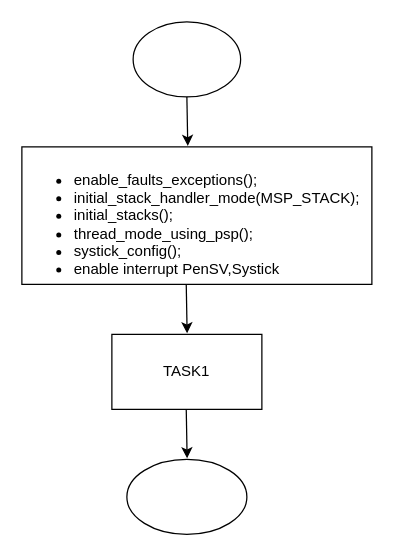
This 394x556 diagram has some shape labels left out. The box of each missing label's shape, as (x1, y1, x2, y2) in pixels:
END: (126, 458, 247, 534)
START: (132, 21, 241, 97)
